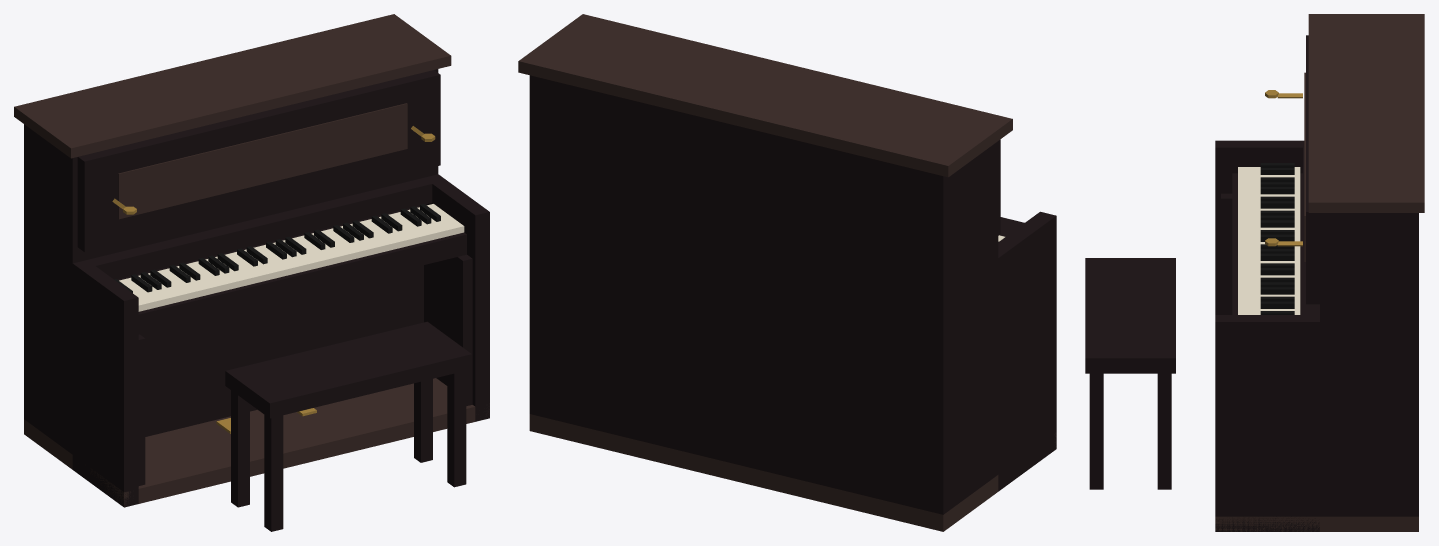
File: UprightPiano.obj
3 views of the same model, side by side, from view 1: azimuth 30°, elevation 25°; view 2: azimuth 150°, elevation 25°; view 3: azimuth 270°, elevation 25° (orthographic). The views are drawn at different scales.
Visible parts, largest first — view 1: UprightPiano; view 2: UprightPiano; view 3: UprightPiano.
Boxes of the visible parts, x1,y1,x2,y2 form: UprightPiano: (14,14,489,531); UprightPiano: (518,14,1056,531); UprightPiano: (1085,14,1424,531).
Bounding box in the file's own units: 1.58 × 1.3 × 1.2.
1 material, 1 textured.
